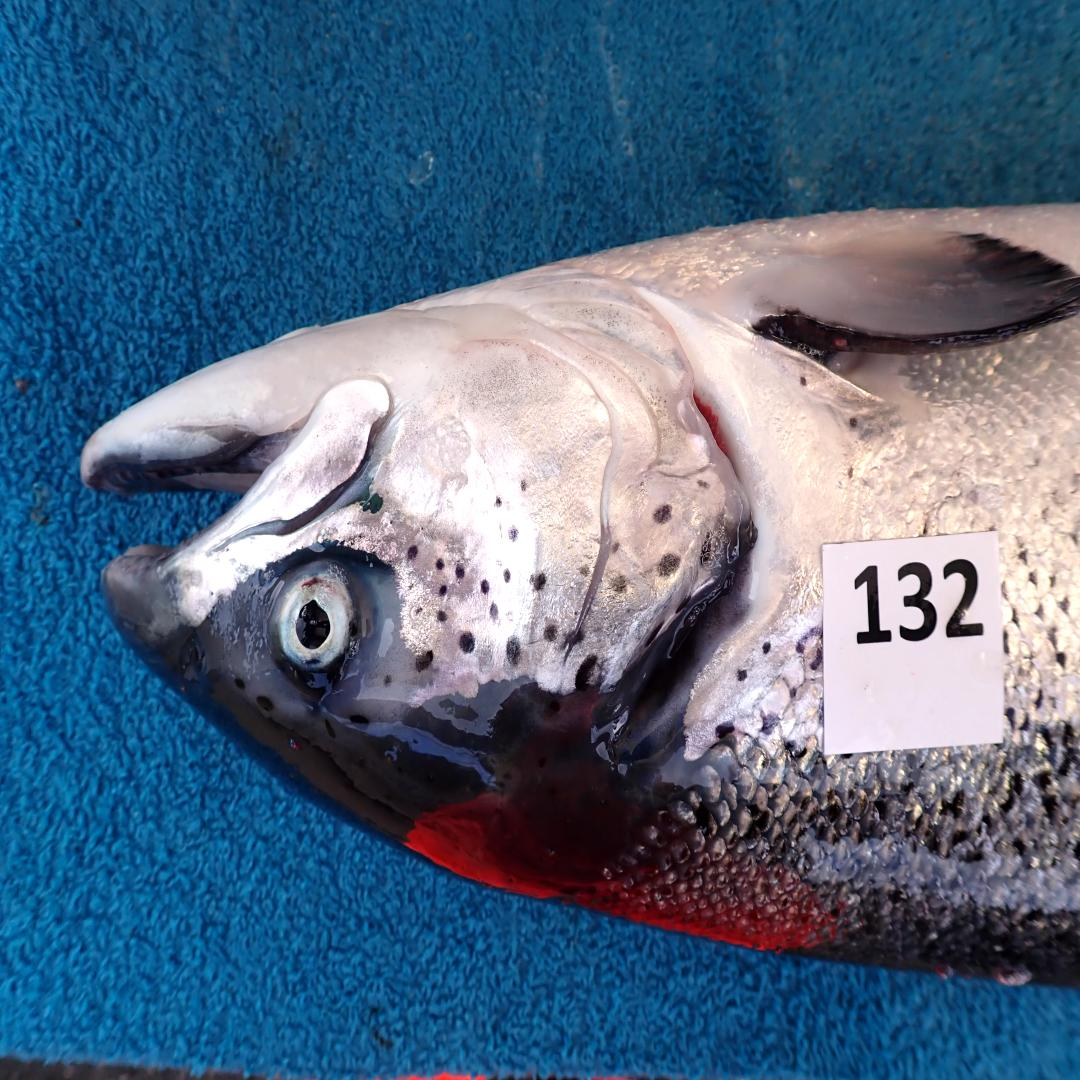roi: (387, 246, 747, 695)
